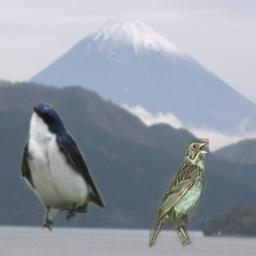Sparrow: (149, 134, 209, 251)
Swallow: (20, 102, 106, 232)
